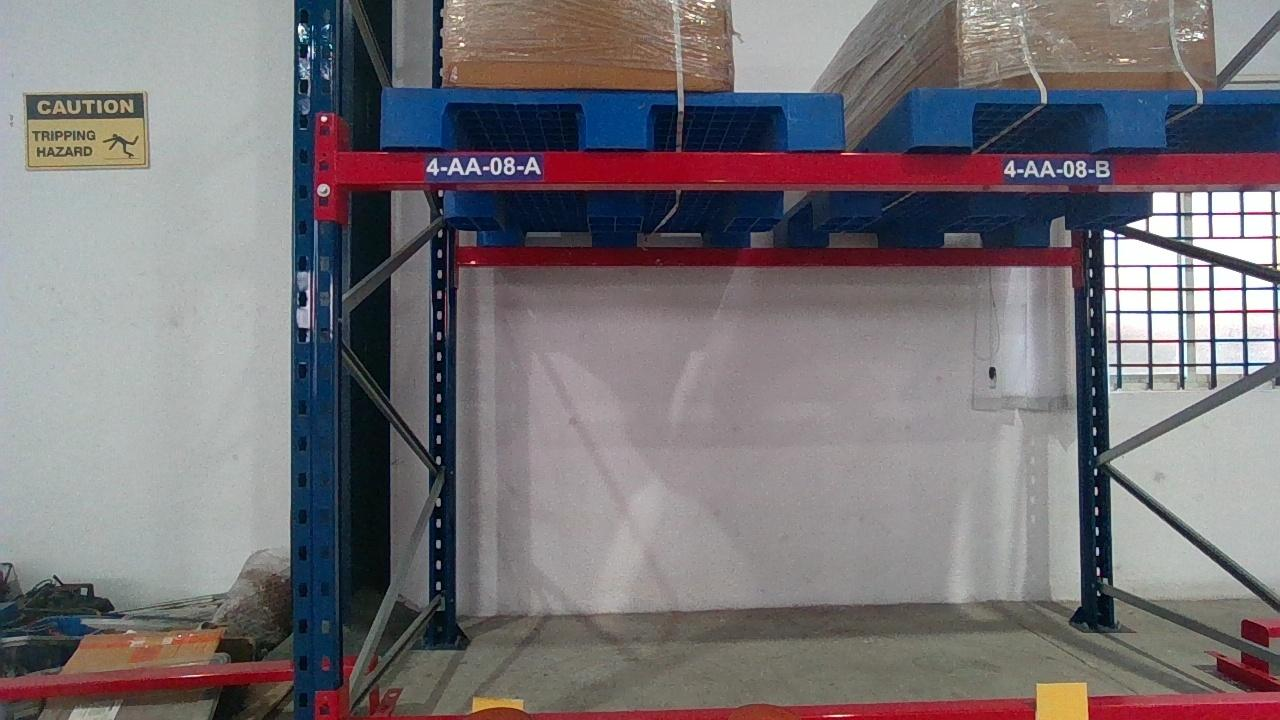h_rack: (335, 150, 1279, 185)
orange_strip: (1035, 683, 1089, 719)
small_pallet: (378, 89, 848, 146), (915, 88, 1277, 147)
